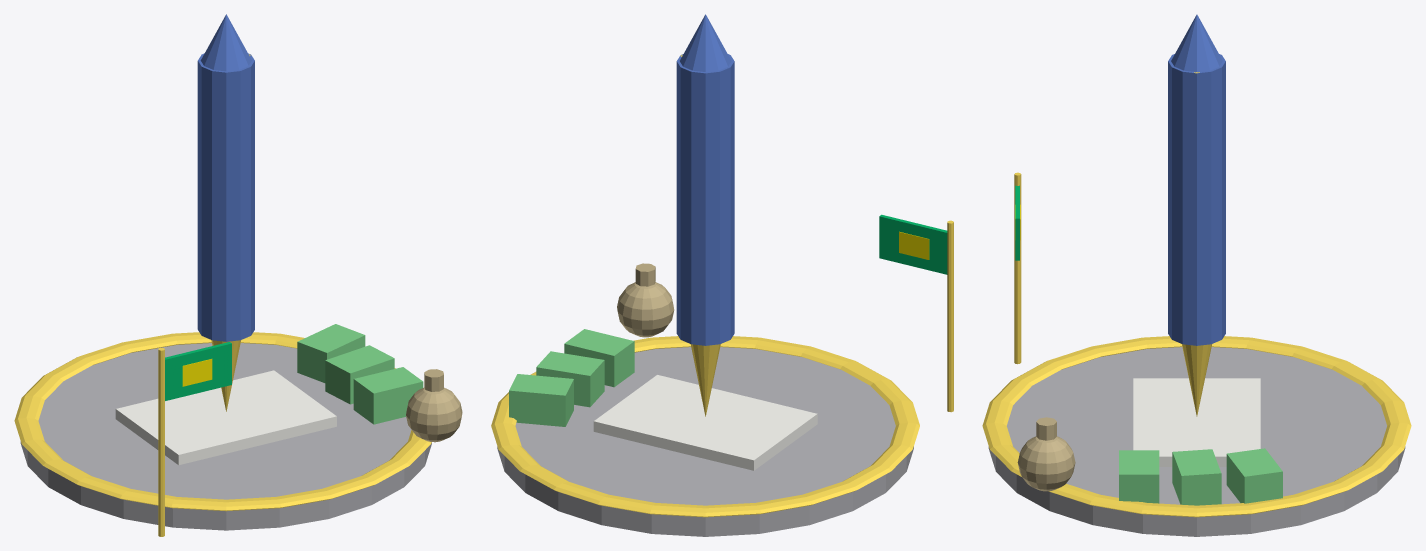
Rendered from Caneta_L3.fbx.
3 views of the same model, side by side, from view 1: azimuth 30°, elevation 25°; view 2: azimuth 150°, elevation 25°; view 3: azimuth 270°, elevation 25° (orthographic).
Visible parts, largest first — view 1: Caneta_L3.001; view 2: Caneta_L3.001; view 3: Caneta_L3.001.
Boxes of the visible parts, x1=… form: Caneta_L3.001: x1=14, y1=14, x2=462, y2=536; Caneta_L3.001: x1=491, y1=14, x2=953, y2=536; Caneta_L3.001: x1=982, y1=14, x2=1411, y2=536.
Bounding box in the file's own units: 3.71 × 4.15 × 3.71.
